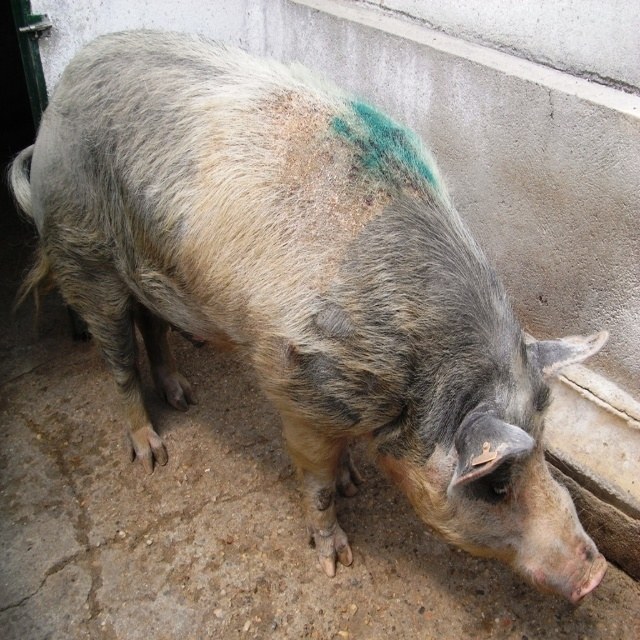Pig: (5, 28, 606, 608)
